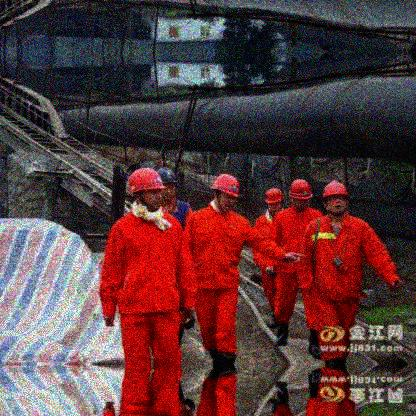helmet: (127, 167, 167, 210), (210, 172, 241, 211), (286, 177, 315, 211), (322, 179, 349, 214), (157, 166, 177, 201), (265, 186, 283, 217)
